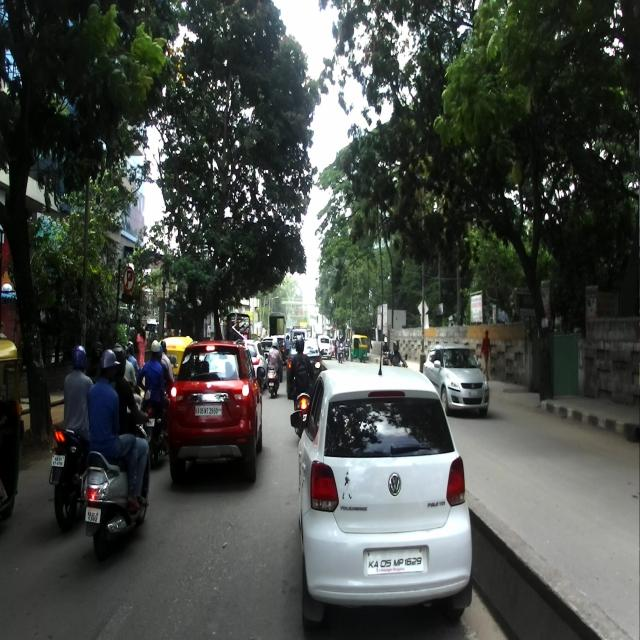car: (290, 341, 473, 639), (166, 338, 265, 486), (422, 343, 489, 418)
motorcycle: (48, 422, 92, 531), (140, 361, 179, 468)
scooter: (80, 388, 154, 561)
